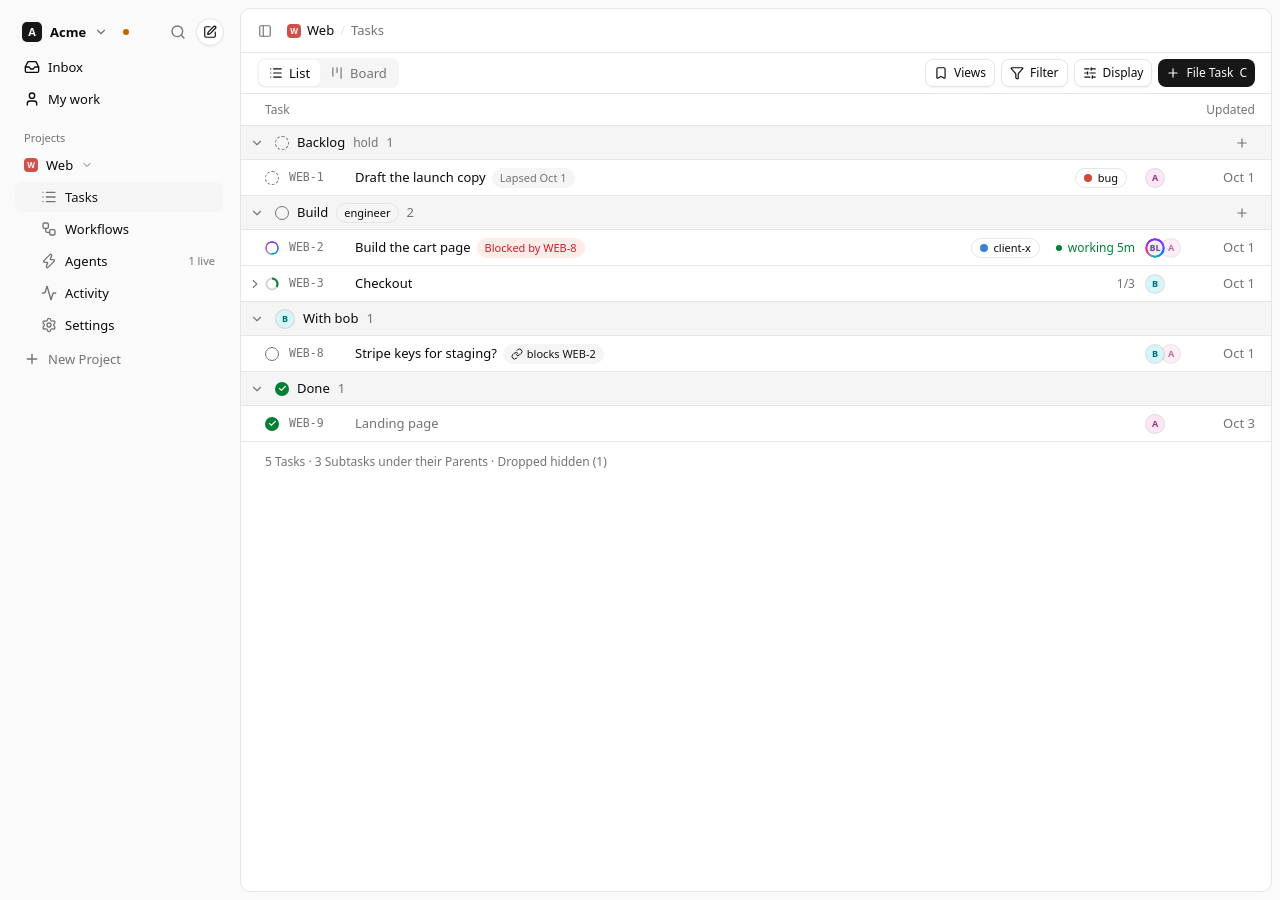
Test: Tasks, list › folds a group and remembers it; Dropped shows from Display
This screenshot has width=1280, height=900.
Step 1. Click the button named "Fold Done" → (257, 388), box [247,378,267,398]
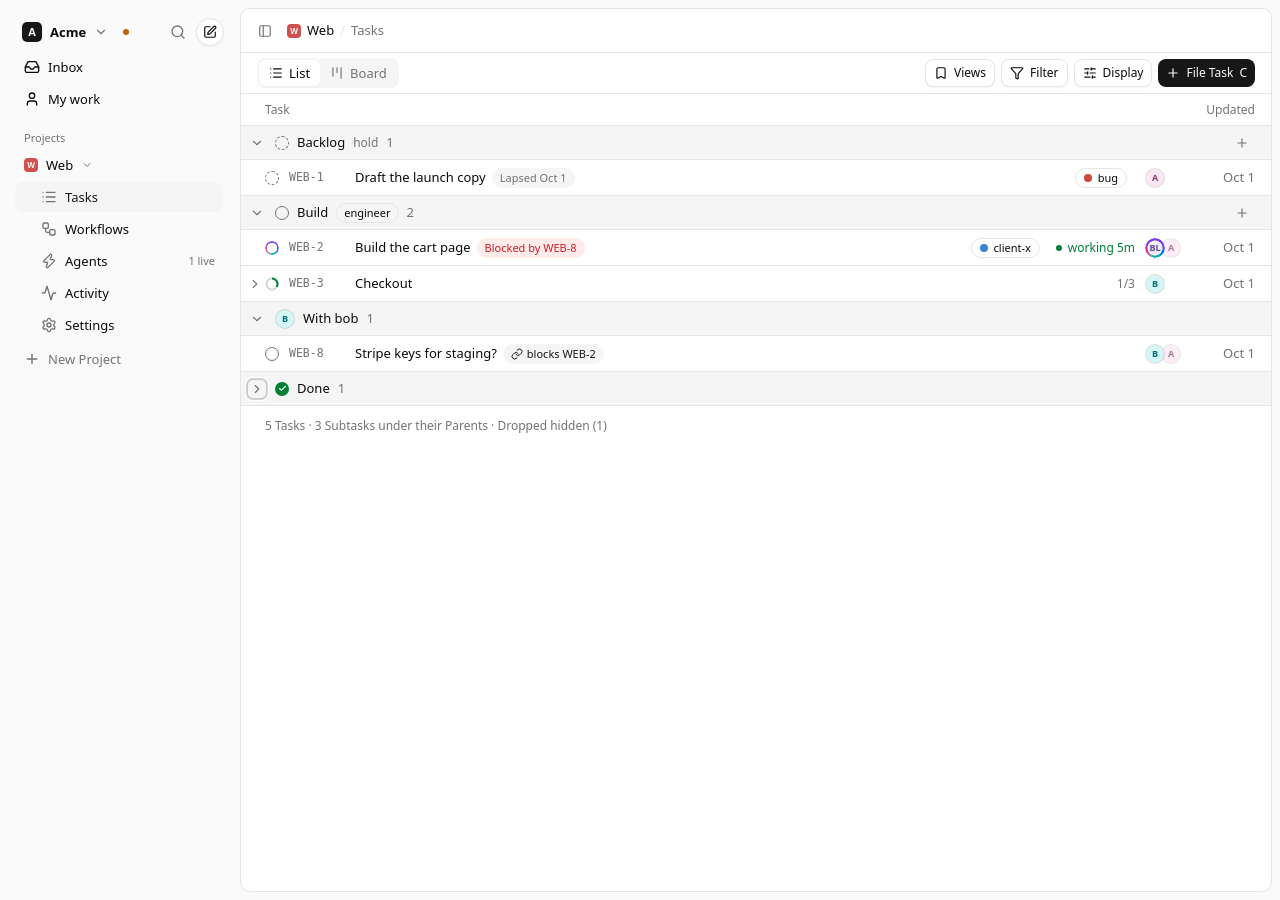
Result: the link "WEB-9" is gone
Step 2. Click the button "Display" → (1113, 73), box [1074,59,1152,87]
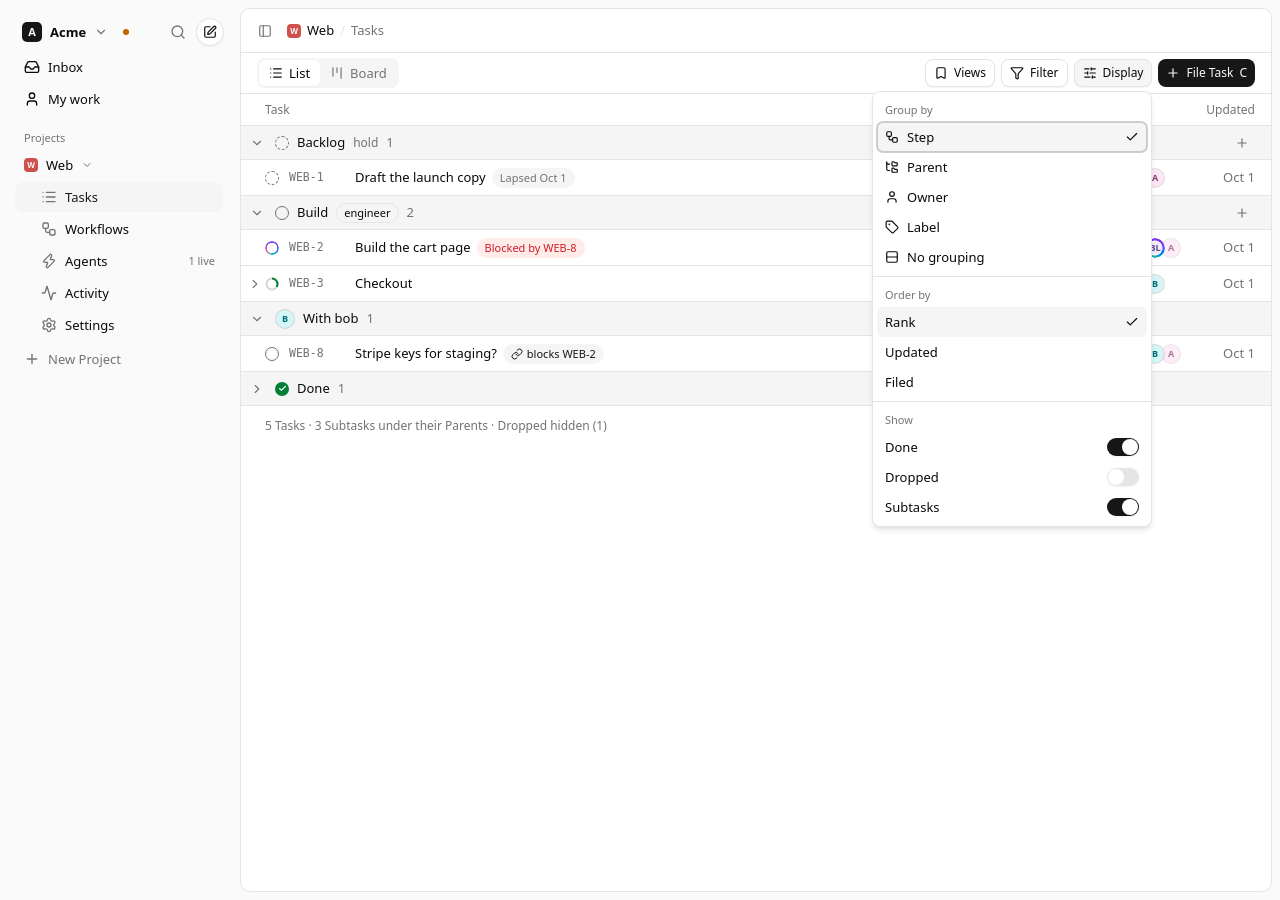
Step 3. Click the switch named "Dropped" → (1123, 477), box [1107,468,1139,486]
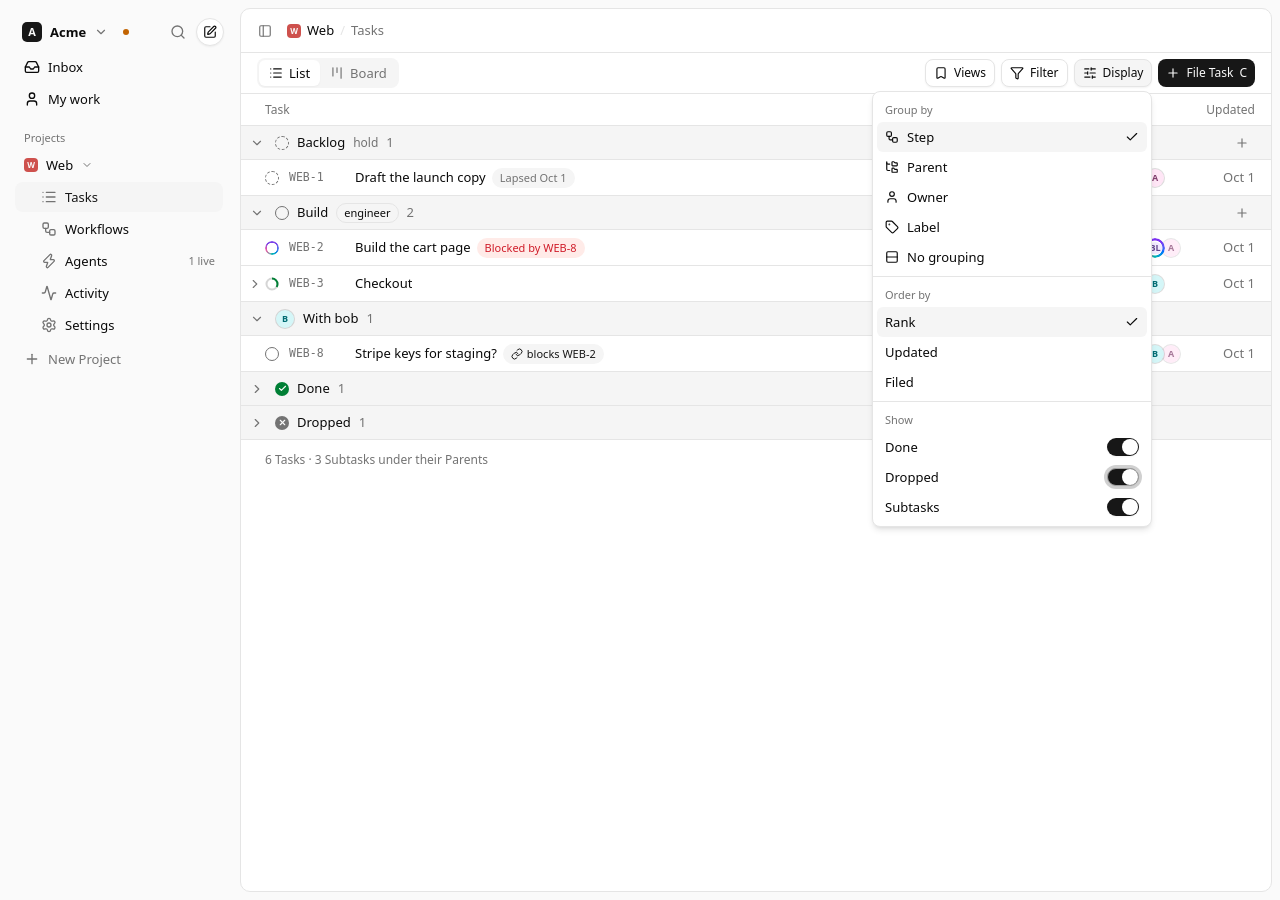
Result: the button named "Show Dropped" is shown at [247,412,267,432]
